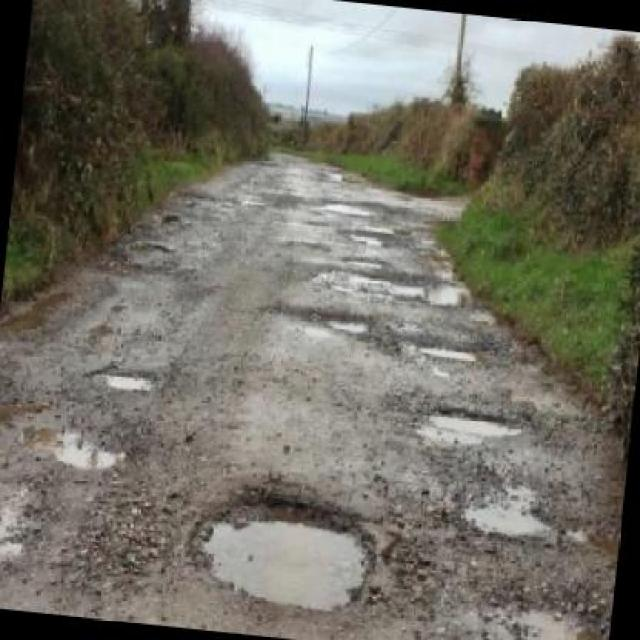pothole1: (182, 482, 382, 616), (19, 411, 138, 472), (454, 478, 564, 540), (264, 295, 384, 337), (426, 402, 528, 438), (0, 482, 38, 575), (84, 358, 158, 390), (343, 224, 397, 247), (428, 278, 470, 305)
